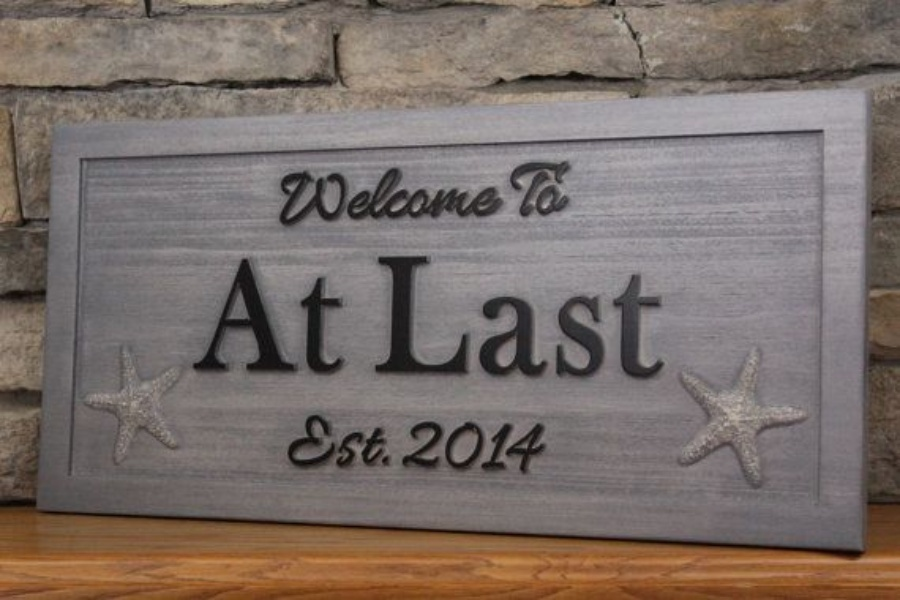text: (385, 253, 400, 384), (401, 253, 416, 384), (417, 253, 432, 384), (433, 253, 448, 384), (449, 253, 464, 384), (465, 253, 480, 384), (481, 253, 496, 384), (497, 253, 512, 384), (513, 253, 528, 384), (529, 253, 544, 384), (545, 253, 560, 384), (561, 253, 576, 384), (577, 253, 592, 384), (593, 253, 608, 384), (609, 253, 624, 384), (625, 253, 640, 384), (641, 253, 656, 384), (241, 255, 256, 379), (257, 255, 272, 379), (273, 255, 288, 379), (289, 255, 304, 379), (305, 255, 320, 379), (321, 255, 336, 379), (657, 253, 670, 384), (375, 253, 384, 384), (337, 255, 346, 379), (513, 157, 528, 220), (529, 157, 544, 220), (545, 157, 560, 220), (417, 414, 432, 477), (433, 414, 448, 477), (449, 414, 464, 477), (465, 414, 480, 477), (481, 414, 496, 477), (497, 414, 512, 477), (513, 414, 528, 477), (529, 414, 544, 477), (289, 165, 304, 226), (305, 165, 320, 226), (321, 165, 336, 226), (337, 165, 352, 226), (353, 165, 368, 226), (369, 165, 384, 226), (385, 165, 400, 226), (401, 165, 416, 226), (417, 165, 432, 226), (433, 165, 448, 226), (449, 165, 464, 226), (465, 165, 480, 226), (481, 165, 496, 226), (545, 414, 559, 477), (305, 413, 320, 471), (321, 413, 336, 471), (337, 413, 352, 471), (353, 413, 368, 471), (369, 413, 384, 471), (385, 413, 400, 471), (233, 255, 240, 379), (291, 413, 304, 471), (561, 157, 572, 220), (497, 165, 507, 226), (503, 157, 512, 220), (280, 165, 288, 226), (401, 413, 408, 471), (414, 414, 416, 477)
